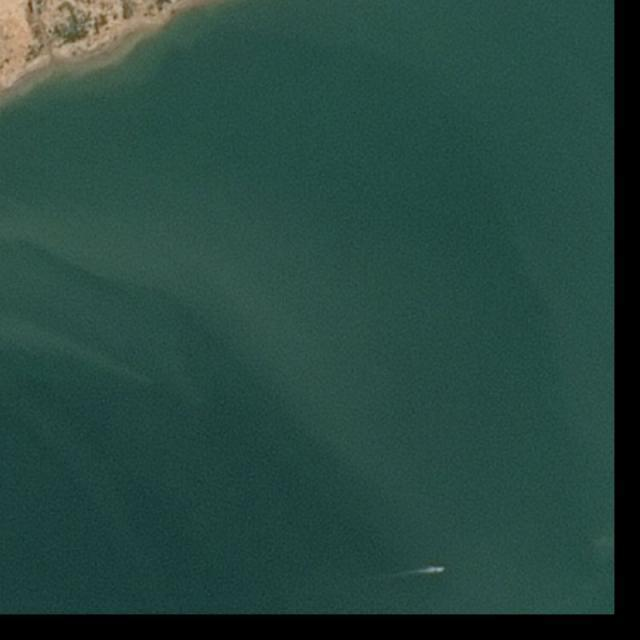ship: (434, 568, 446, 575)
